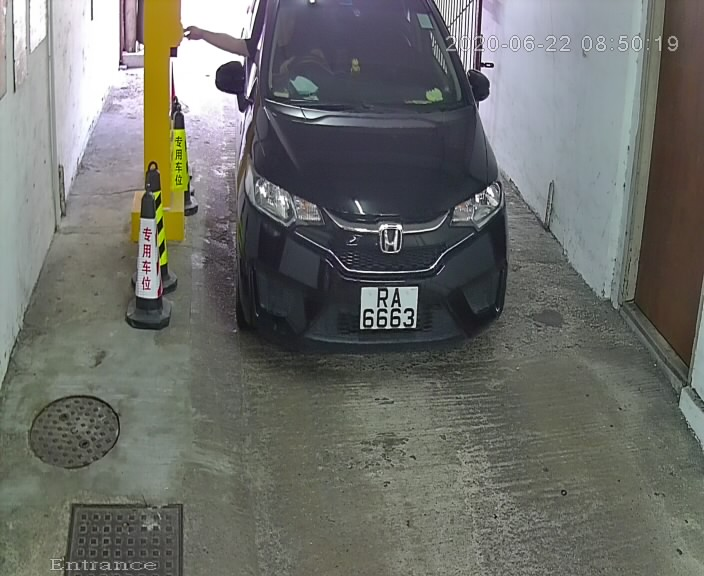privatecar: (190, 1, 546, 377)
